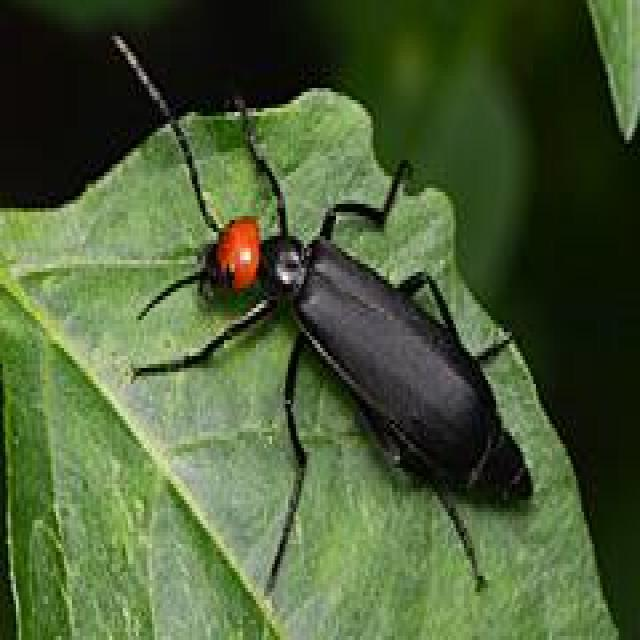BlisterBeetle-Adult-: (104, 29, 541, 590)
